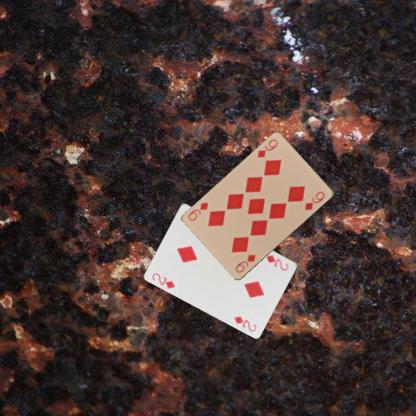2d: (264, 252, 290, 272), (150, 271, 176, 290)
9d: (255, 136, 279, 160), (233, 252, 256, 274)
